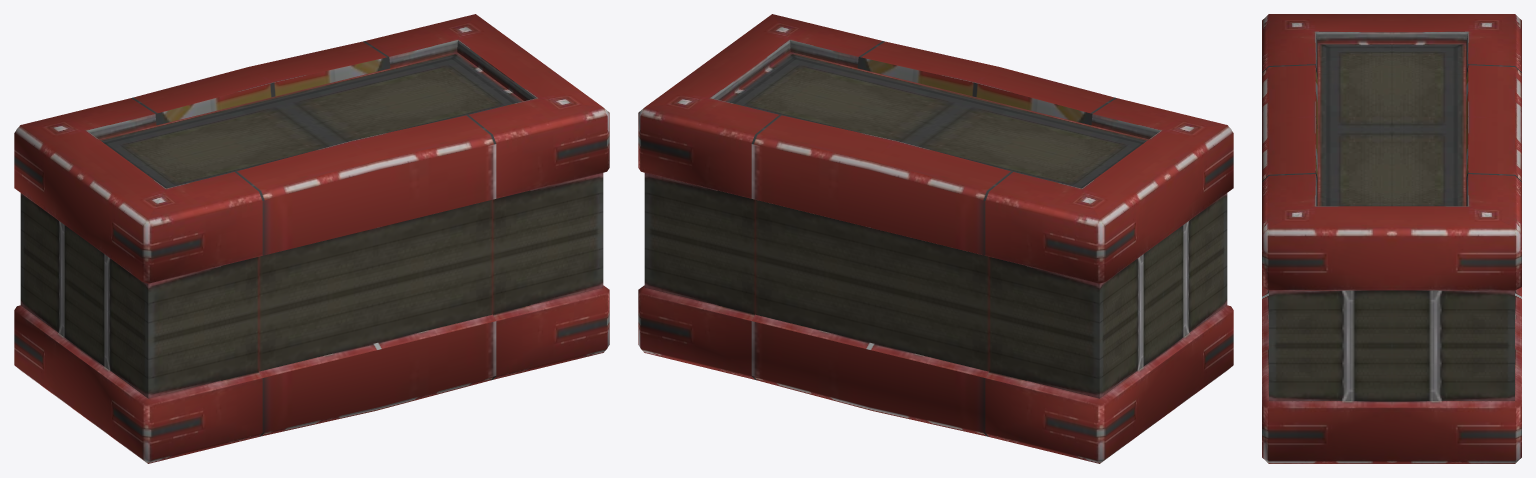
The model's file is Part - block1-iZKXMTPG.glb.
3 renders of one model, left to right at view 1: azimuth 30°, elevation 25°; view 2: azimuth 150°, elevation 25°; view 3: azimuth 270°, elevation 25°, orthographic. The views are drawn at different scales.
Visible parts, largest first — view 1: block1; view 2: block1; view 3: block1.
Boxes of the visible parts, left/top/right/bottom form: block1: left=14, top=14, right=609, bottom=463; block1: left=638, top=14, right=1233, bottom=463; block1: left=1262, top=14, right=1521, bottom=463.
Size of the model in its own units: 2 by 1.04 by 1.
Materials: 1 (1 with a texture image).
